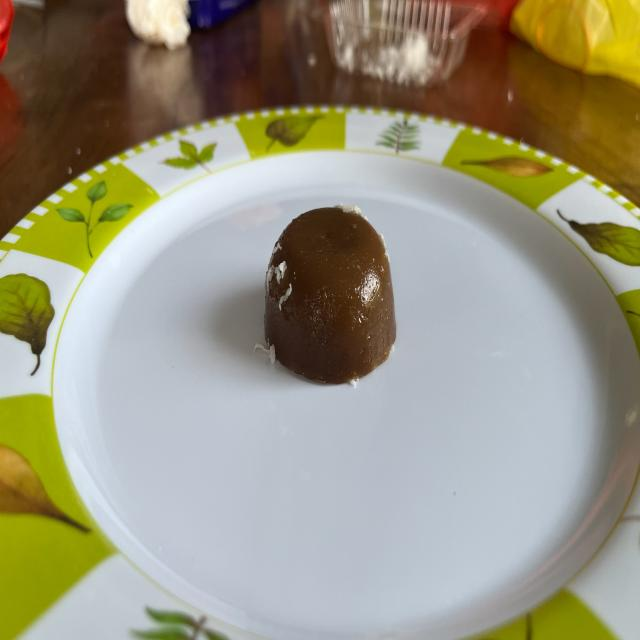Kuih lompang: (264, 204, 396, 384)
